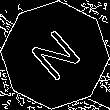N_SE: (23, 22, 87, 88)
